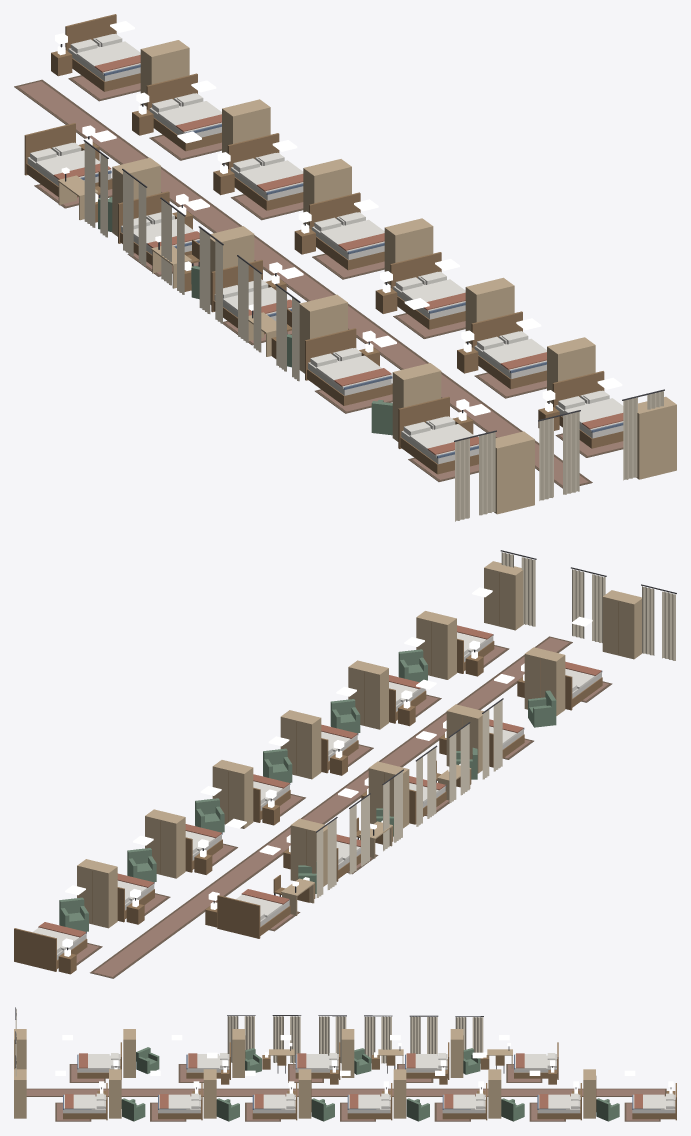
Rendered from fine-s2.glb.
3 renders of one model, top to bottom at view 1: azimuth 30°, elevation 25°; view 2: azimuth 150°, elevation 25°; view 3: azimuth 270°, elevation 25°, orthographic. The views are drawn at different scales.
Parts seen in each view (by area): view 1: soft-s2, dresser.016, dresser.023, bed-frame.015, bed-frame.019, bed-frame.020, bed-frame.022, bed-frame.017, bed-frame.016, bed-frame.021, bed-frame.018, dresser.015 (+14 smaller); view 2: soft-s2, dresser.016, dresser.023, dresser.020, dresser.018, dresser.017, dresser.021, dresser.022, dresser.019, dresser.015, bed-frame.012, bed-frame.017 (+12 smaller); view 3: soft-s2, dresser.018, dresser.019, dresser.020, dresser.021, dresser.012, dresser.017, dresser.014, dresser.022, dresser.023, dresser.013, dresser.015 (+26 smaller).
Part boxes in pixels (x1,y1,x2,y2): soft-s2: (14,33,664,521); dresser.016: (494,431,534,514); dresser.023: (636,396,676,479); bed-frame.015: (305,328,392,405); bed-frame.019: (227,133,303,210); bed-frame.020: (309,192,384,270); bed-frame.022: (471,311,546,389); bed-frame.017: (65,14,140,91); bed-frame.016: (398,396,478,474); bed-frame.021: (390,252,465,329); bed-frame.018: (146,73,221,151); dresser.015: (392,363,441,441); soft-s2: (33,550,676,978); dresser.016: (602,590,642,659); dresser.023: (484,561,523,630); dresser.020: (280,710,321,779); dresser.018: (145,809,185,878); dresser.017: (77,859,117,928); dresser.021: (348,660,388,729); dresser.022: (416,611,456,679); dresser.019: (212,760,253,828); dresser.015: (524,647,565,715); bed-frame.012: (217,895,290,938); bed-frame.017: (14,928,87,971); soft-s2: (15,1007,673,1121); dresser.018: (488,1069,501,1118); dresser.019: (393,1069,406,1118); dresser.020: (298,1069,311,1118); dresser.021: (203,1069,216,1118); dresser.012: (450,1029,463,1077); dresser.017: (583,1069,596,1118); dresser.014: (232,1029,245,1077); dresser.022: (109,1069,121,1118); dresser.023: (14,1069,26,1118); dresser.013: (341,1029,354,1077); dresser.015: (123,1029,135,1077).
Size of the model in its own units: 7.36 by 2.51 by 31.2.
